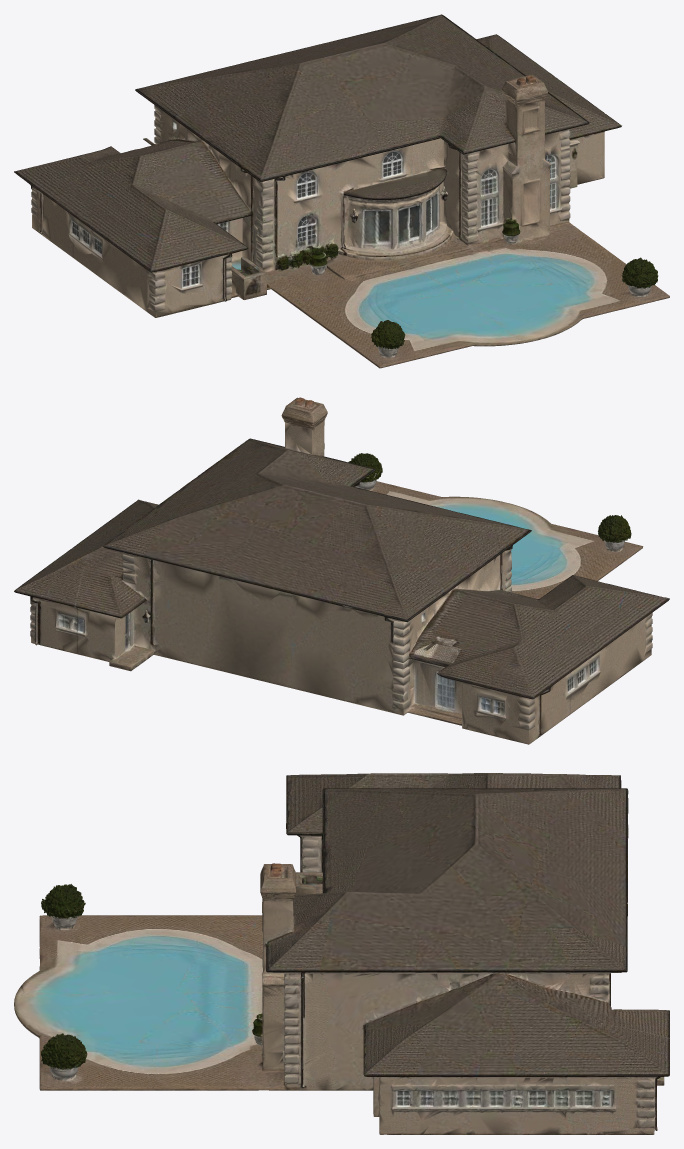
Rendered from tony_house.glb.
3 renders of one model, top to bottom at view 1: azimuth 30°, elevation 25°; view 2: azimuth 150°, elevation 25°; view 3: azimuth 270°, elevation 25°, orthographic. The views are drawn at different scales.
Parts seen in each view (by area): view 1: mesh_node; view 2: mesh_node; view 3: mesh_node.
Boxes of the visible parts, x1,y1,x2,y2 form: mesh_node: (14,14,669,368); mesh_node: (14,397,669,744); mesh_node: (14,773,669,1134).
Size of the model in its own units: 30 by 9.13 by 27.73.
1 material, 1 textured.
